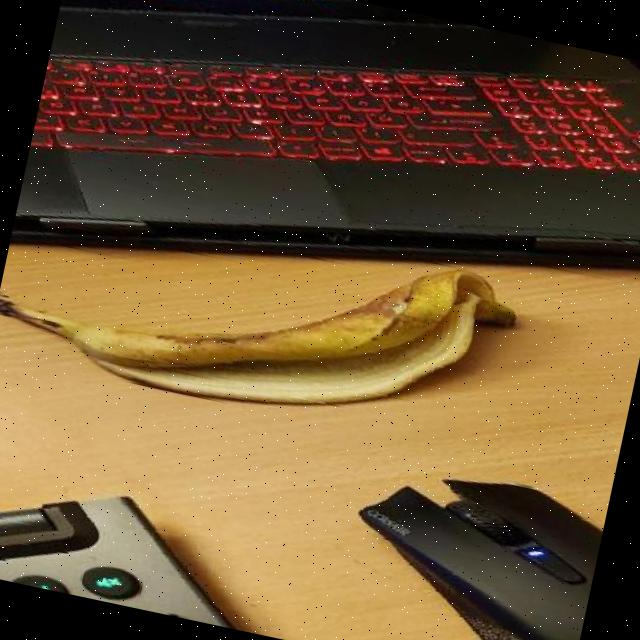banana-peel: (0, 172, 523, 454)
